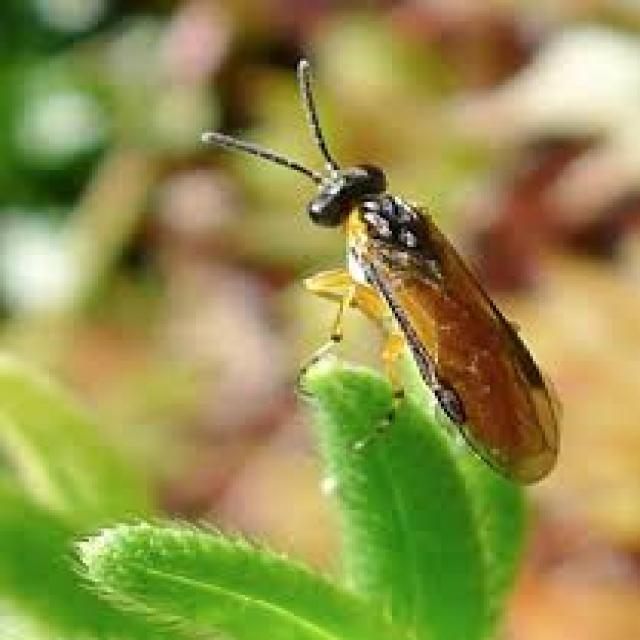Saw Fly: (191, 52, 564, 489)
